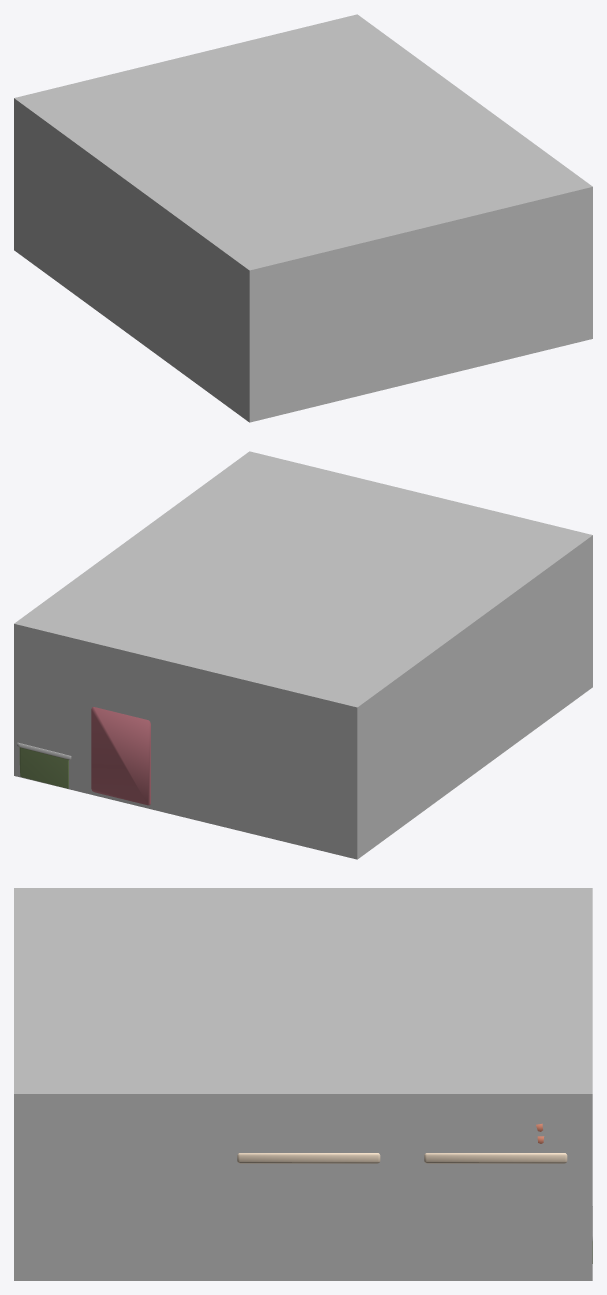
Rendered from Bakery_outside.fbx.
3 views of the same model, one above another, from view 1: azimuth 30°, elevation 25°; view 2: azimuth 150°, elevation 25°; view 3: azimuth 270°, elevation 25° (orthographic). The views are drawn at different scales.
Visible parts, largest first — view 1: wall; view 2: wall, Fridge, Sink and benchtop; view 3: wall, Shevles.
Boxes of the visible parts, <box> form: wall: <box>14,14,592,422</box>; wall: <box>14,451,592,859</box>; Fridge: <box>91,707,150,805</box>; Sink and benchtop: <box>17,742,71,788</box>; wall: <box>14,888,592,1280</box>; Shevles: <box>237,1153,567,1163</box>.
Bounding box in the file's own units: 1221 × 516 × 1447.
